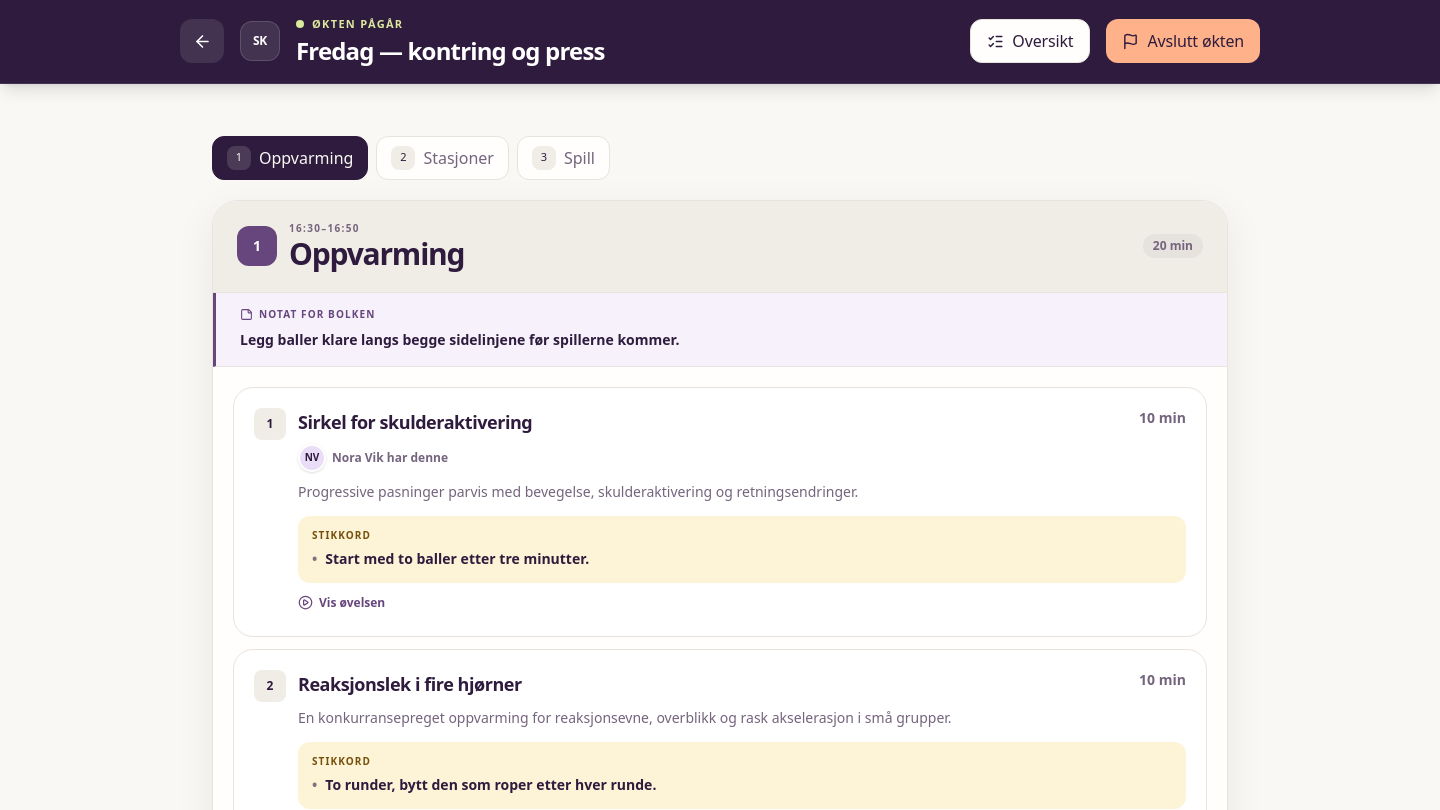
live session runner › opens the full timeline and jumps to a selected block
Step 1. Click the button with aria-label "Øktoversikt" → [1030, 41], box [970, 19, 1090, 63]
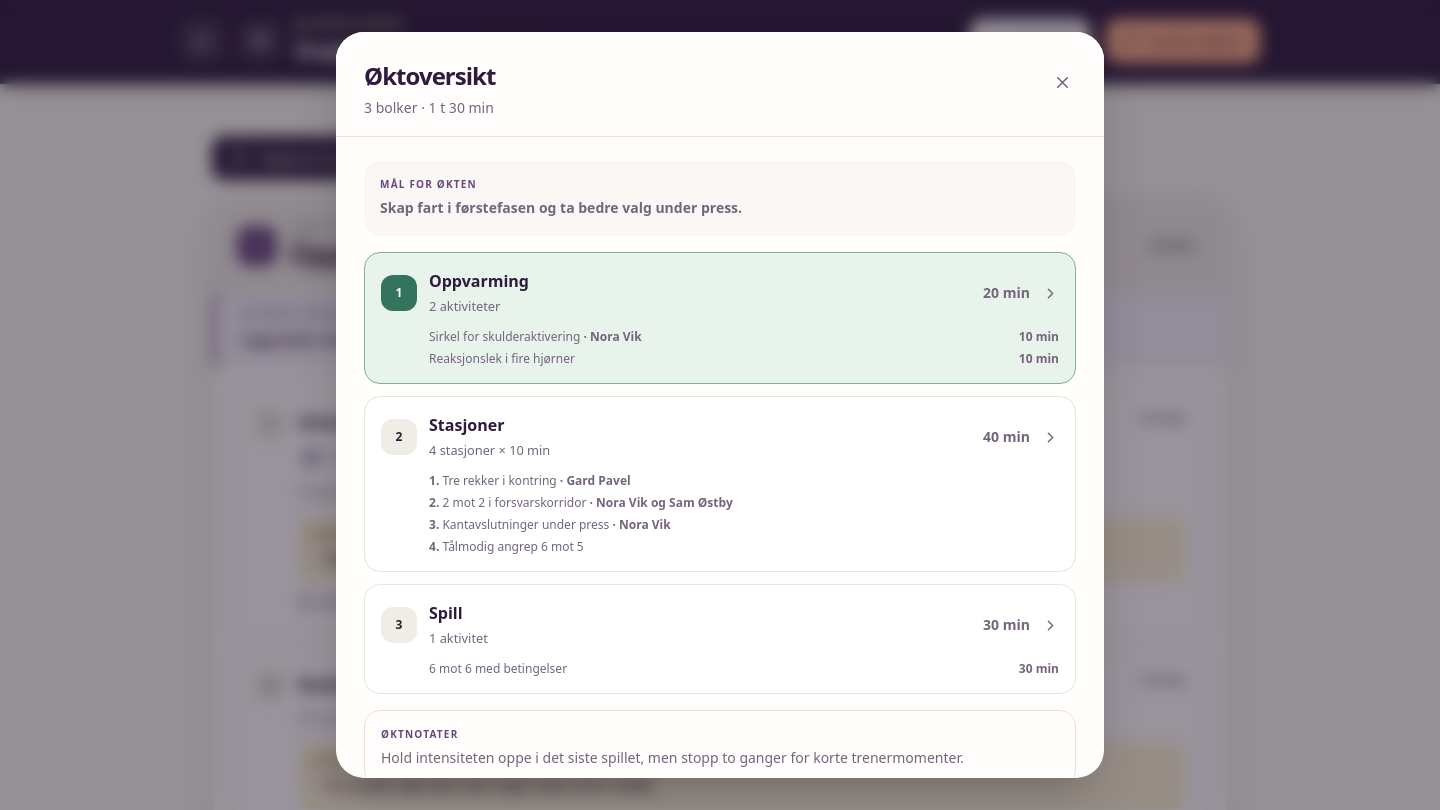
Expected: the text "Tre rekker i kontring" is shown, [442, 472, 557, 489]
Expected: the text "6 mot 6 med betingelser" is shown, [429, 661, 567, 677]
Step 2. Click the button with aria-label "Gå til Spill" → [399, 625], box [364, 584, 1076, 694]
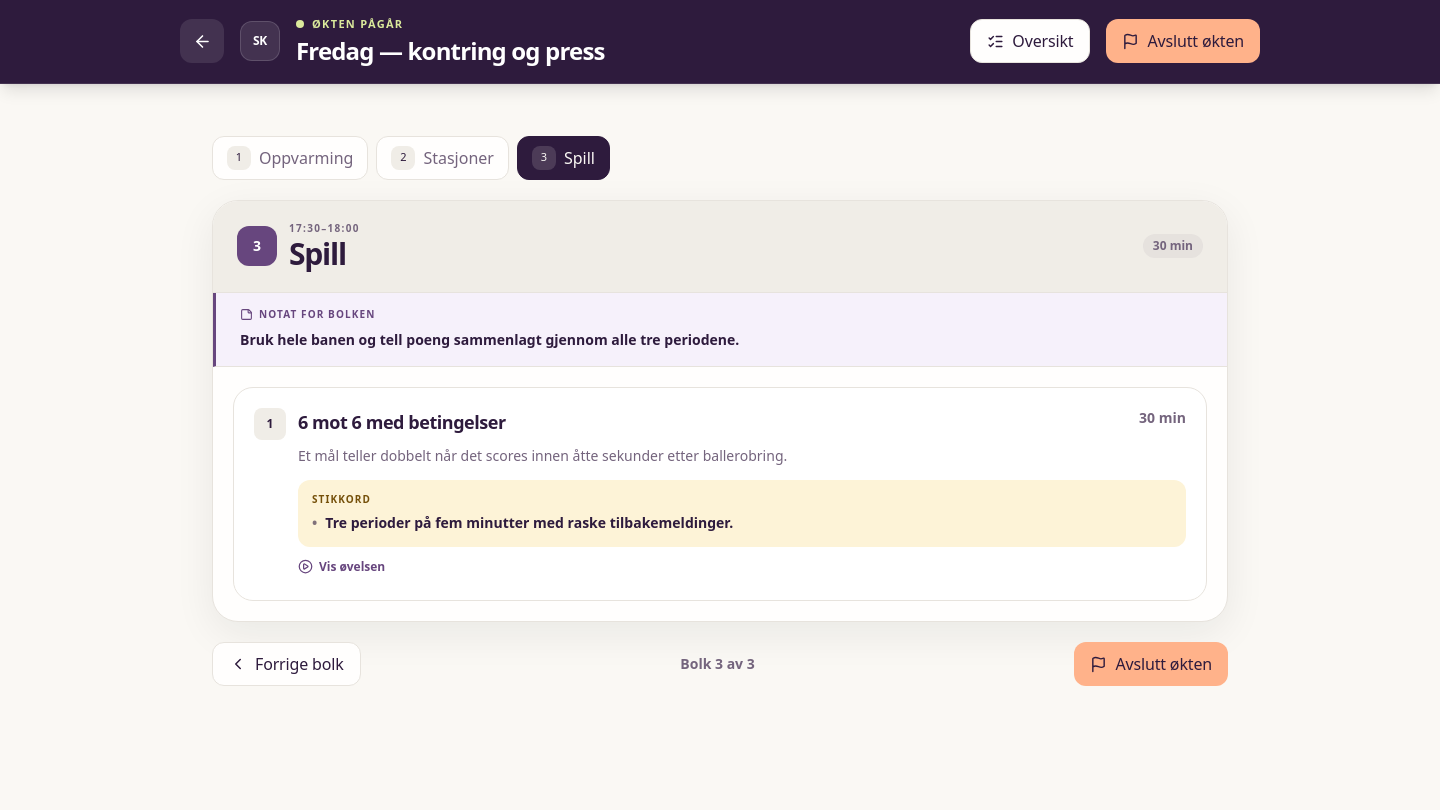
Expected: the heading "6 mot 6 med betingelser" is shown, [298, 408, 506, 436]
Expected: the heading "Øktoversikt" is gone
Expected: the heading "Spill" is shown, [289, 232, 346, 274]
